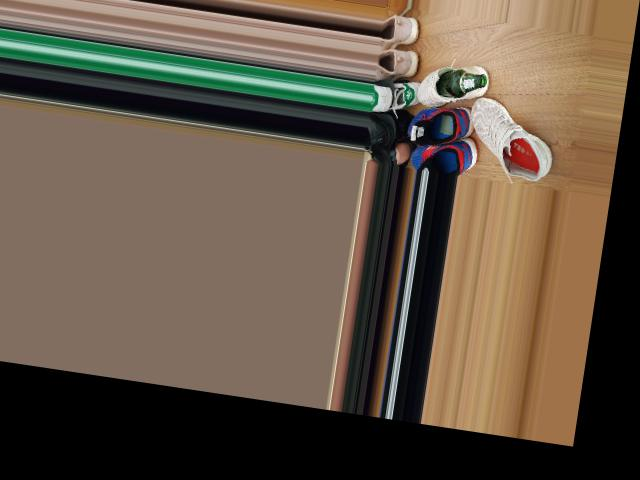beer: (435, 65, 488, 102)
